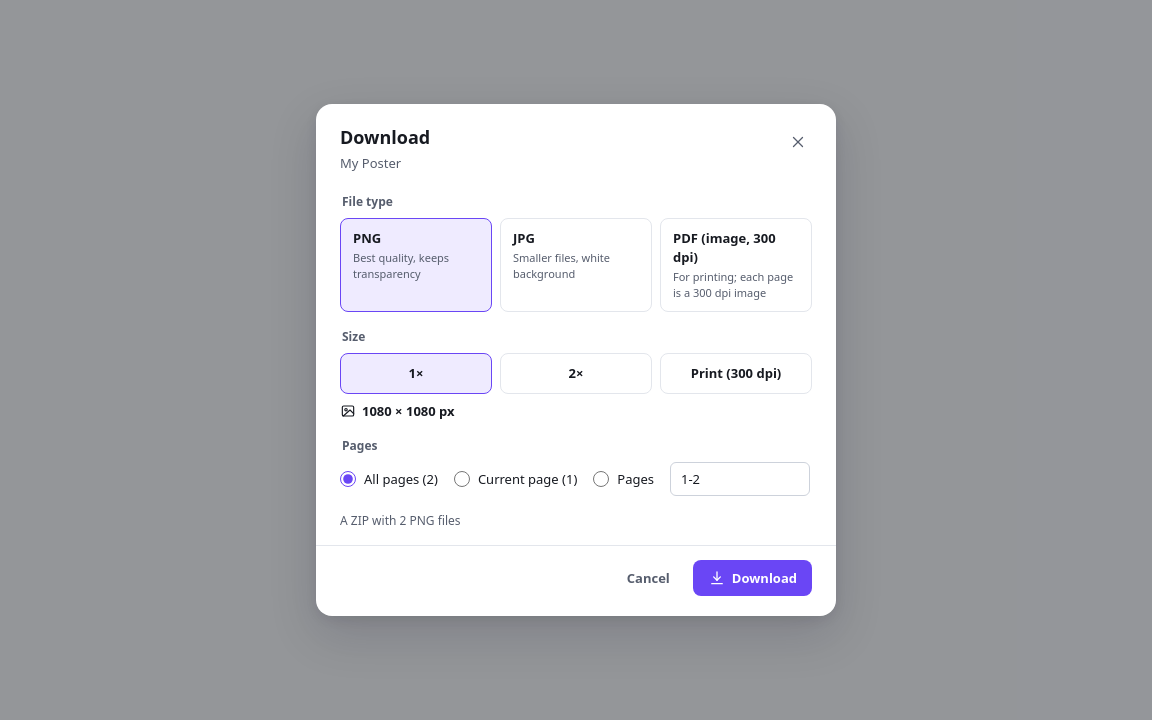
it: ExportDialog › rejects invalid page ranges
The image size is (1152, 720).
Replace the text in the field named "Page range" with "5" at (740, 479), box [670,462,810,496]
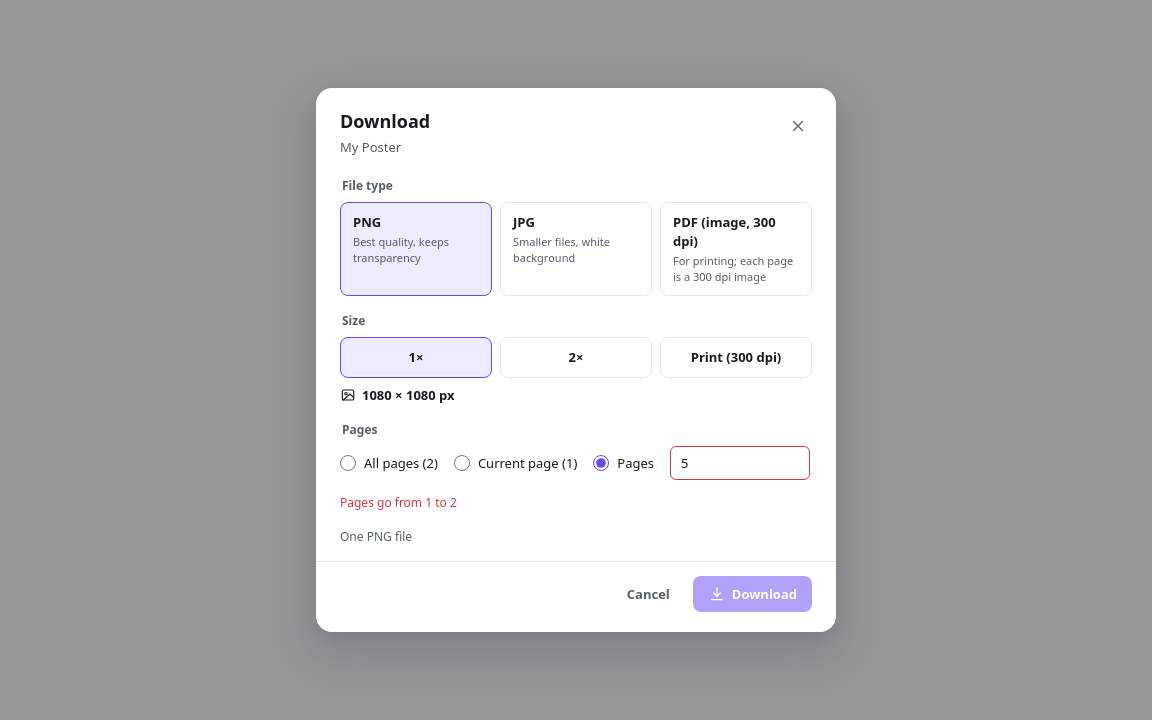
Check: the text "Pages go from 1 to 2" is shown, box [340,494,457,511]
Check: the button "Download" is disabled, box [693,576,812,612]
